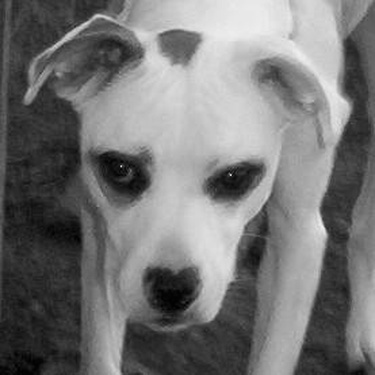dog: (19, 2, 372, 372)
